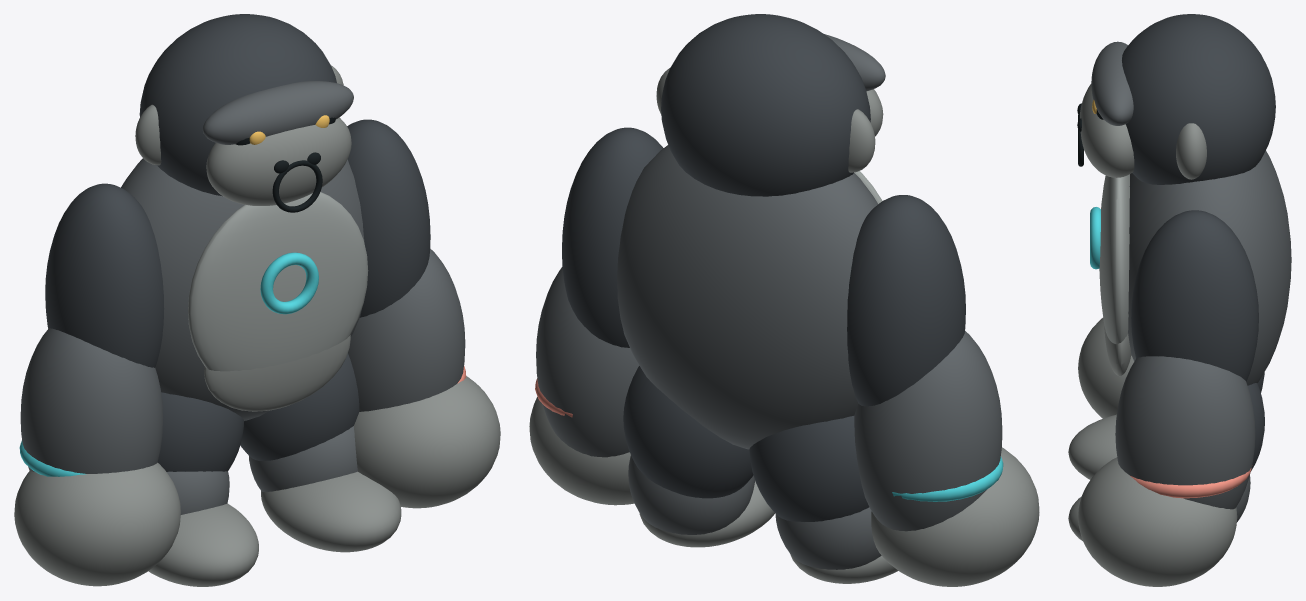
The model's file is gorilla-67.glb.
3 views of the same model, side by side, from view 1: azimuth 30°, elevation 25°; view 2: azimuth 150°, elevation 25°; view 3: azimuth 270°, elevation 25° (orthographic). The views are drawn at different scales.
Visible parts, largest first — view 1: GorillaChest, GorillaUpperArmL, GorillaForearmL, GorillaHead, GorillaFistL, GorillaFistR, GorillaBody, GorillaForearmR, GorillaUpperArmR, GorillaFootR, GorillaMuzzle, GorillaFootL (+10 smaller); view 2: GorillaBody, GorillaHead, GorillaUpperArmL, GorillaForearmL, GorillaUpperArmR, GorillaFistL, GorillaForearmR, GorillaThighL, GorillaThighR, GorillaFistR, GorillaShinR, GorillaShinL (+5 smaller); view 3: GorillaHead, GorillaUpperArmR, GorillaForearmR, GorillaBody, GorillaFistR, GorillaChest, GorillaFistL, GorillaMuzzle, GorillaBrow, GorillaFootL, GorillaEarR, GorillaBandR (+4 smaller).
Boxes of the visible parts, box(x1,y1,x2,y2) form: GorillaChest: box(188, 192, 368, 371); GorillaUpperArmL: box(45, 183, 164, 367); GorillaForearmL: box(20, 328, 162, 473); GorillaHead: box(139, 14, 336, 196); GorillaFistL: box(14, 462, 180, 586); GorillaFistR: box(354, 376, 500, 508); GorillaBody: box(121, 158, 364, 420); GorillaForearmR: box(348, 249, 465, 411); GorillaUpperArmR: box(347, 119, 430, 317); GorillaFootR: box(261, 471, 401, 552); GorillaMuzzle: box(206, 117, 351, 205); GorillaFootL: box(148, 503, 258, 586); GorillaBody: box(617, 145, 877, 449); GorillaHead: box(661, 14, 870, 196); GorillaUpperArmL: box(847, 195, 965, 406); GorillaForearmL: box(854, 331, 1002, 531); GorillaUpperArmR: box(562, 127, 663, 347); GorillaFistL: box(871, 447, 1039, 586); GorillaForearmR: box(536, 267, 639, 457); GorillaThighL: box(749, 416, 869, 521); GorillaThighR: box(623, 366, 753, 498); GorillaFistR: box(529, 397, 634, 505); GorillaShinR: box(628, 455, 754, 534); GorillaShinL: box(775, 507, 881, 569); GorillaHead: box(1122, 14, 1275, 184); GorillaUpperArmR: box(1131, 210, 1258, 381); GorillaForearmR: box(1115, 356, 1255, 509); GorillaBody: box(1128, 150, 1291, 385); GorillaFistR: box(1078, 457, 1237, 586); GorillaChest: box(1099, 174, 1129, 343); GorillaFistL: box(1078, 317, 1134, 418); GorillaMuzzle: box(1080, 84, 1134, 177); GorillaBrow: box(1091, 41, 1133, 125); GorillaFootL: box(1068, 414, 1117, 479); GorillaEarR: box(1176, 123, 1206, 179); GorillaBandR: box(1130, 465, 1252, 498).
Bounding box in the file's own units: 4.24 × 4.52 × 1.85.
